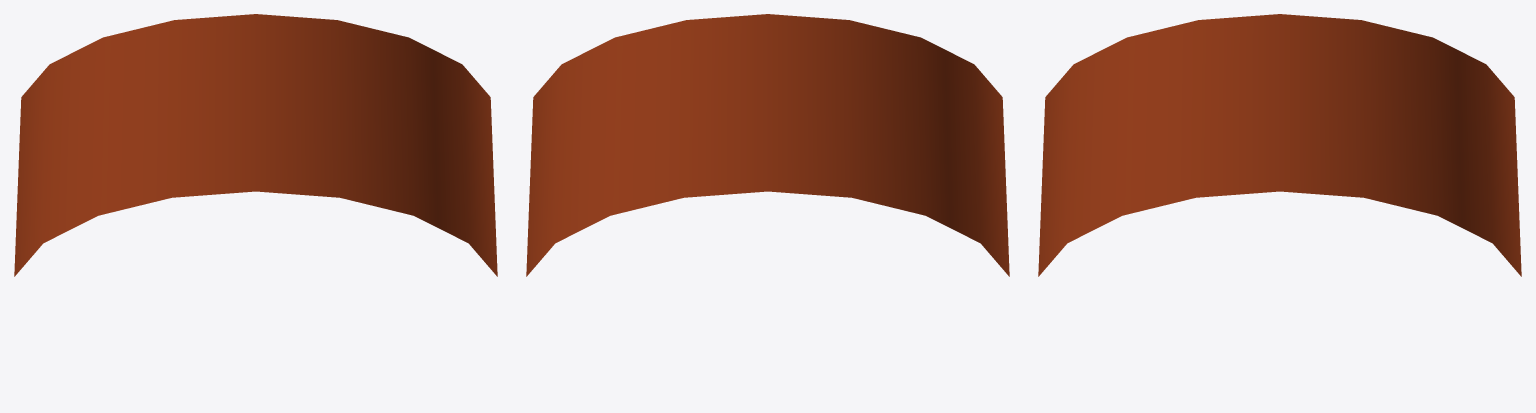
The model's file is sky_distant0003.glb.
The picture shows the model from 3 angles, left to right: view 1: azimuth 30°, elevation 25°; view 2: azimuth 150°, elevation 25°; view 3: azimuth 270°, elevation 25°; orthographic projection.
Parts seen in each view (by area): view 1: sky_distant0003; view 2: sky_distant0003; view 3: sky_distant0003.
Boxes of the visible parts, x1,y1,x2,y2 form: sky_distant0003: (14, 14, 497, 276); sky_distant0003: (526, 14, 1009, 276); sky_distant0003: (1038, 14, 1521, 276).
Size of the model in its own units: 1.73 by 0.7001 by 1.7.
Materials: 1 (1 with a texture image).
